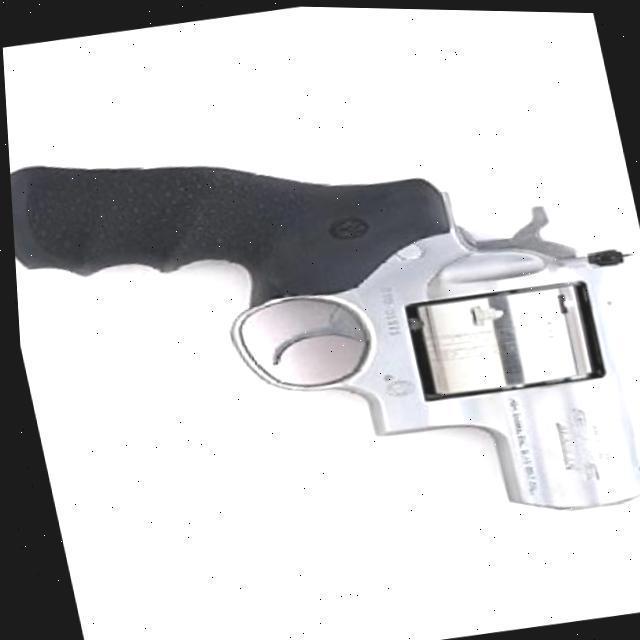gun: (3, 65, 640, 587)
